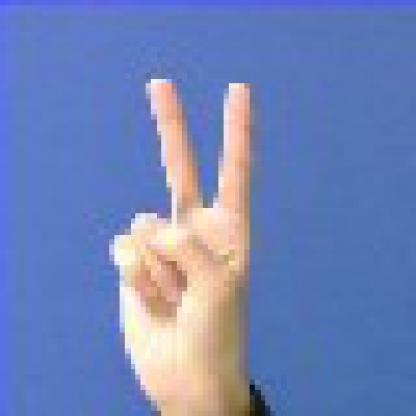two: (100, 60, 272, 415)
